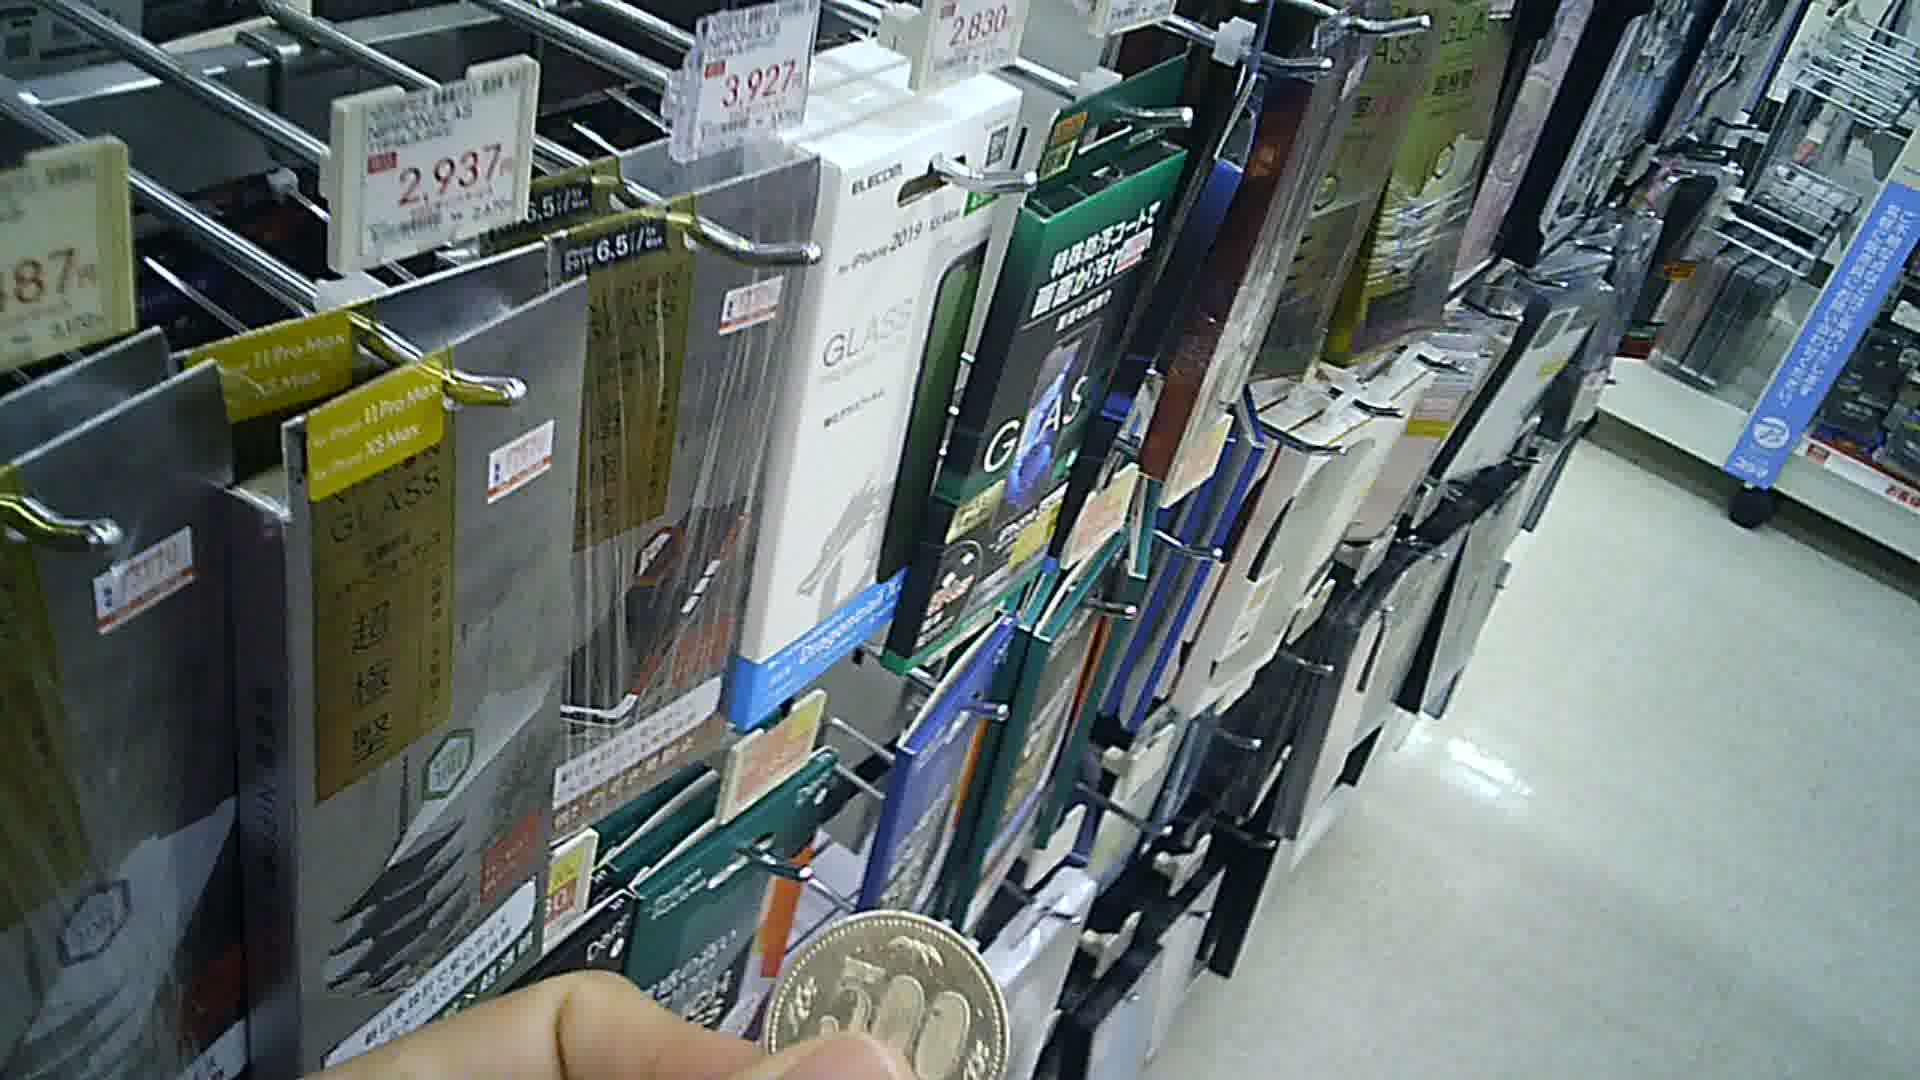500 Yen: (762, 911, 1011, 1073)
